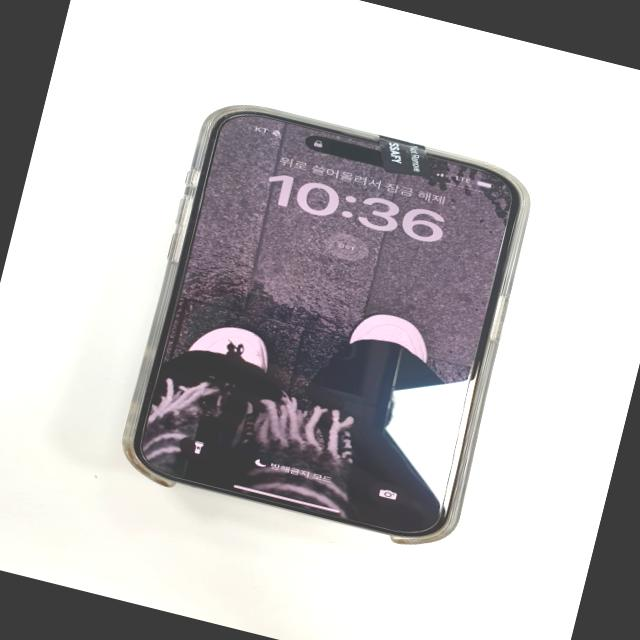phone: (115, 94, 548, 558)
sticker: (373, 136, 435, 182)
